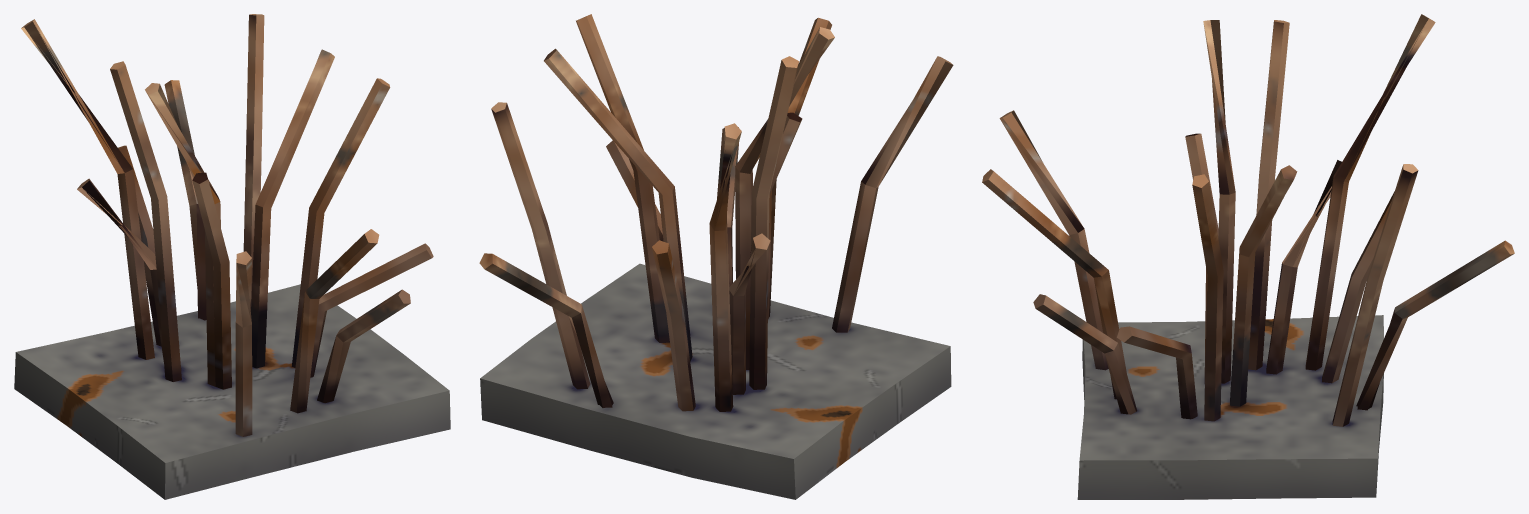
Rendered from GrassRebar.glb.
3 views of the same model, side by side, from view 1: azimuth 30°, elevation 25°; view 2: azimuth 150°, elevation 25°; view 3: azimuth 270°, elevation 25° (orthographic). The views are drawn at different scales.
Parts seen in each view (by area): view 1: Clump, Rebar; view 2: Clump, Rebar; view 3: Rebar, Clump.
Boxes of the visible parts, x1,y1,x2,y2 form: Clump: (14, 284, 450, 499); Rebar: (21, 14, 433, 436); Clump: (480, 263, 951, 499); Rebar: (479, 14, 953, 411); Rebar: (982, 14, 1514, 426); Clump: (1077, 315, 1383, 499).
Bounding box in the file's own units: 1.22 × 1.41 × 1.85.
2 materials, 2 textured.
